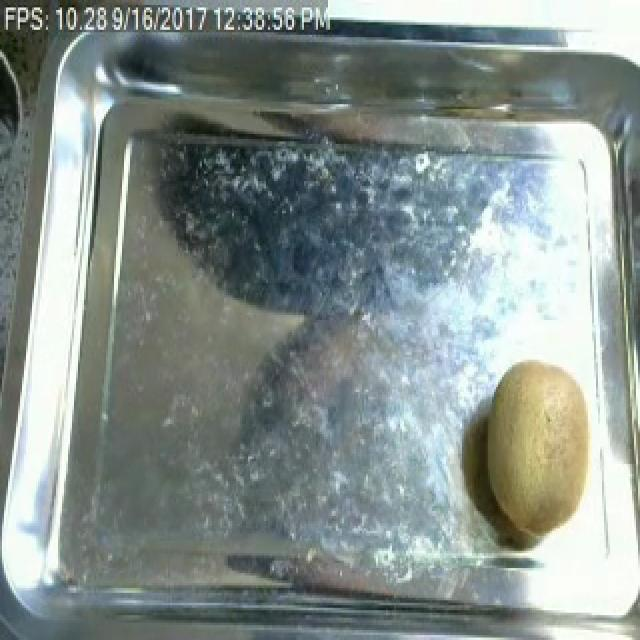Fruit: (472, 350, 608, 543)
